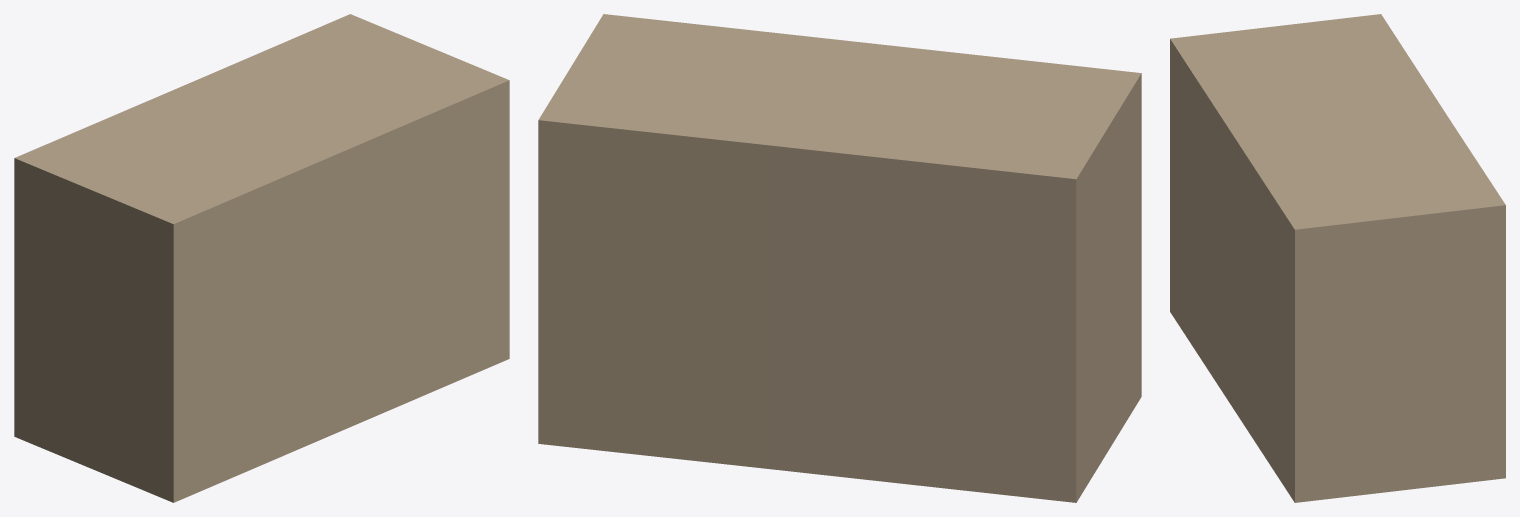
Rendered from bld_101562268.dae.
3 views of the same model, side by side, from view 1: azimuth 30°, elevation 25°; view 2: azimuth 150°, elevation 25°; view 3: azimuth 270°, elevation 25° (orthographic). The views are drawn at different scales.
Visible parts, largest first — view 1: bld_101562268; view 2: bld_101562268; view 3: bld_101562268.
Part boxes in pixels (bbox=[...]): bld_101562268: bbox=[14, 14, 509, 502]; bld_101562268: bbox=[538, 14, 1141, 502]; bld_101562268: bbox=[1170, 14, 1505, 502].
Bounding box in the file's own units: 13.55 × 8.91 × 8.
